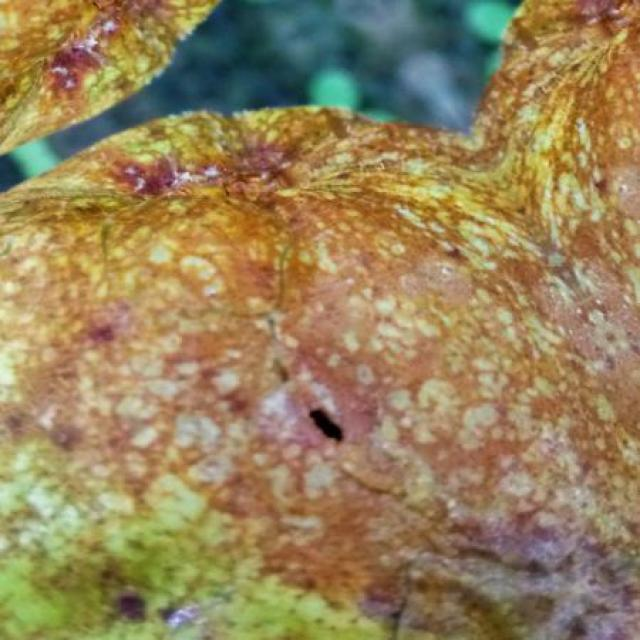Scab: (0, 112, 640, 640), (1, 0, 218, 153)
